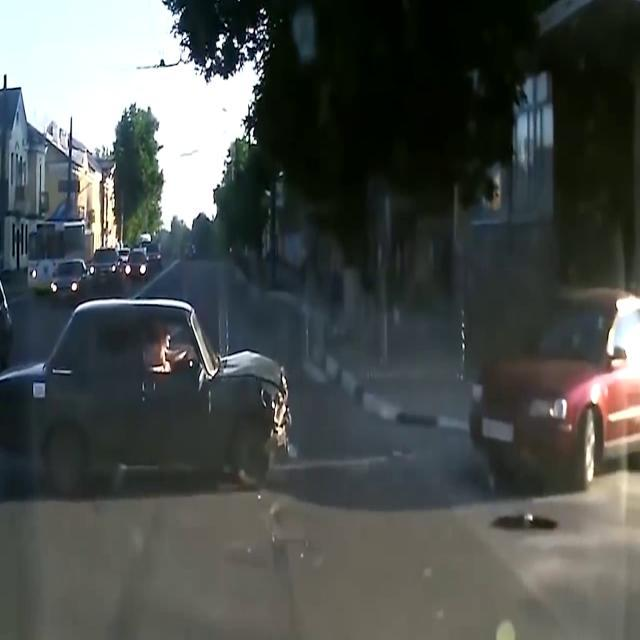multiple_accident: (8, 273, 618, 478), (0, 240, 374, 535)
